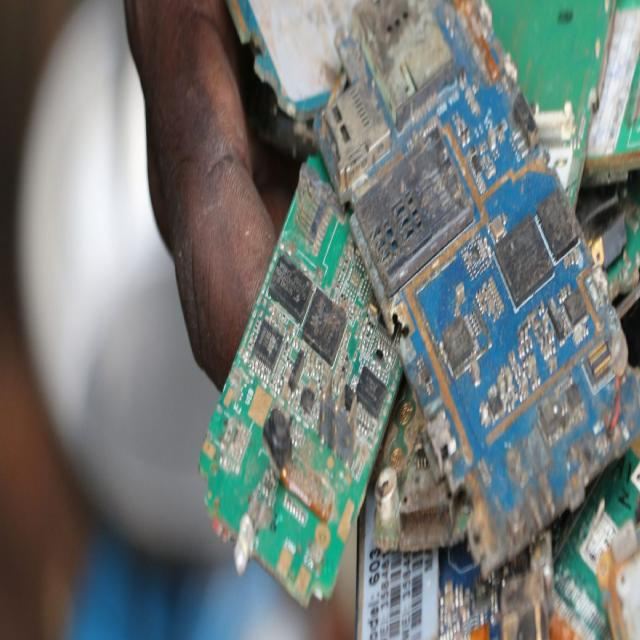Hazard: (226, 0, 638, 622)
